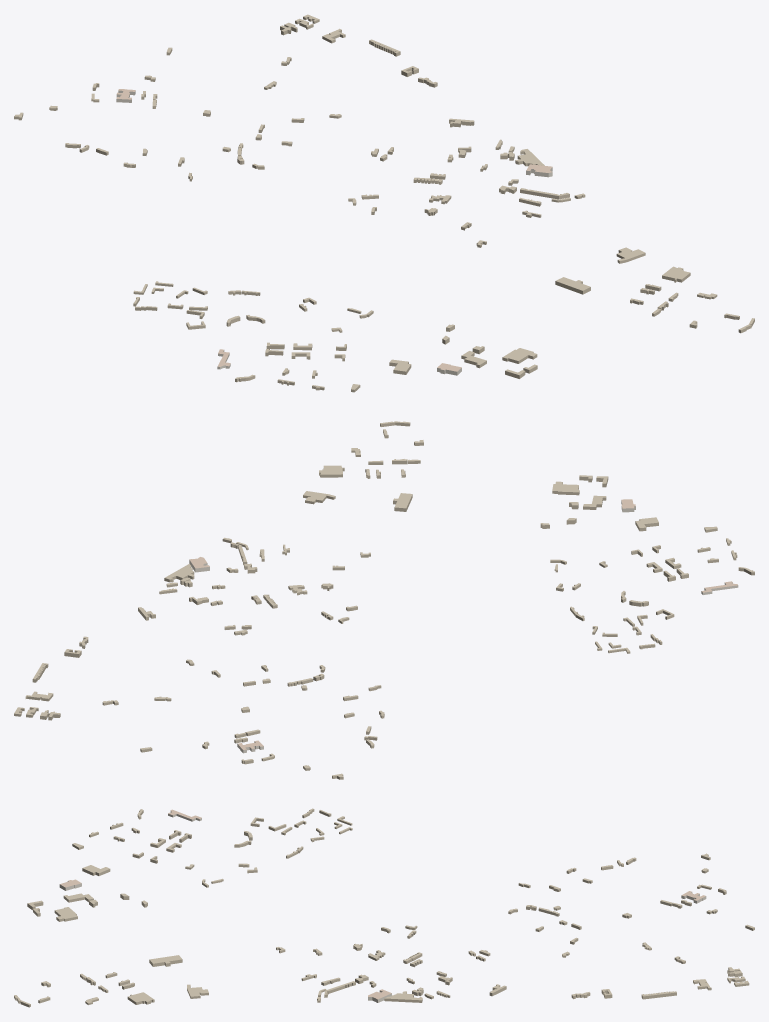
3 views of the same model, one above another, from view 1: azimuth 30°, elevation 25°; view 2: azimuth 150°, elevation 25°; view 3: azimuth 270°, elevation 25° (orthographic). The views are drawn at different scales.
Bounding box in the file's own units: 1525 × 39.26 × 2464.
